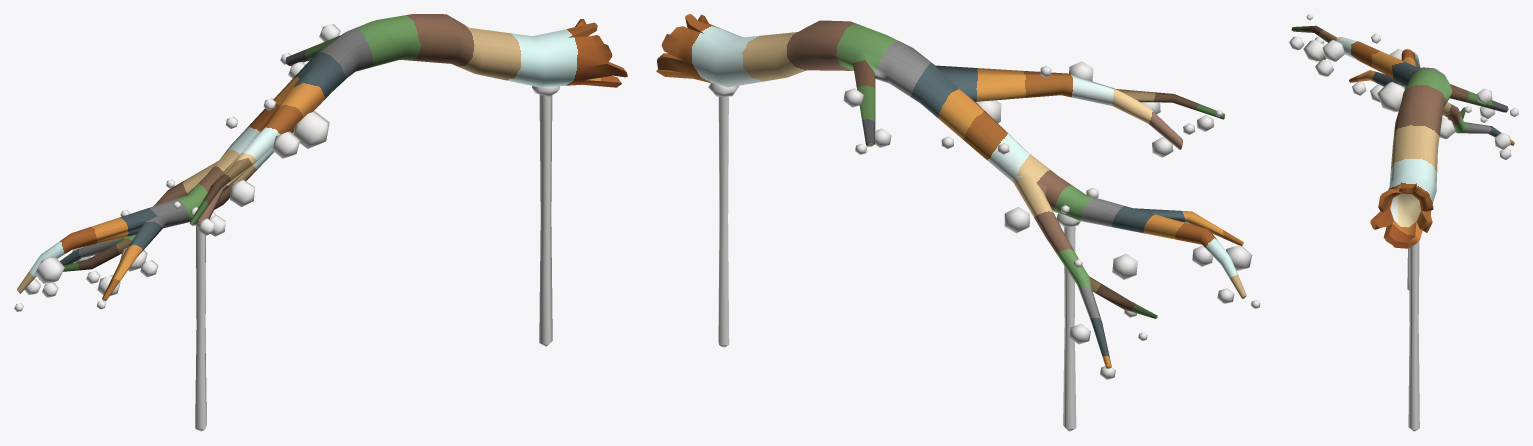
The model's file is P_AP22HangingLight.glb.
3 views of the same model, side by side, from view 1: azimuth 30°, elevation 25°; view 2: azimuth 150°, elevation 25°; view 3: azimuth 270°, elevation 25° (orthographic). The views are drawn at different scales.
Visible parts, largest first — view 1: P_AP22HangingLight; view 2: P_AP22HangingLight; view 3: P_AP22HangingLight.
Part boxes in pixels (x1,y1,x2,y2): P_AP22HangingLight: (14,14,627,431); P_AP22HangingLight: (656,14,1260,431); P_AP22HangingLight: (1289,14,1518,431).
Size of the model in its own units: 2.01 by 1.15 by 0.8137.
Materials: 1 (1 with a texture image).
